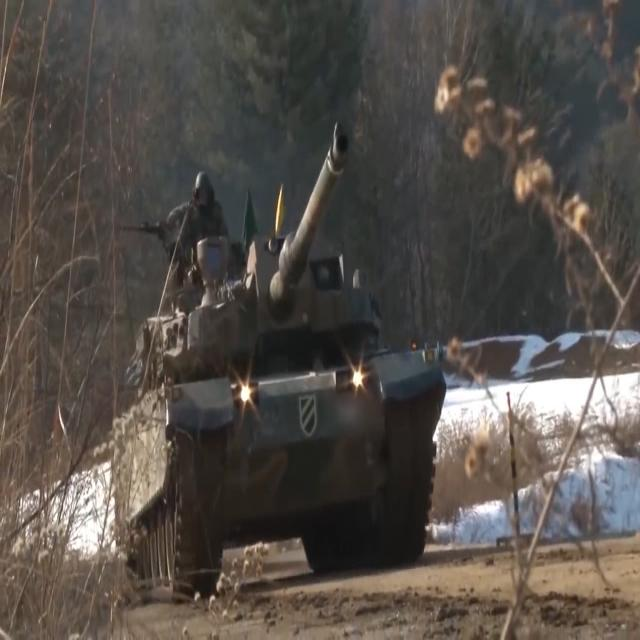korea tank: (103, 113, 447, 610)
